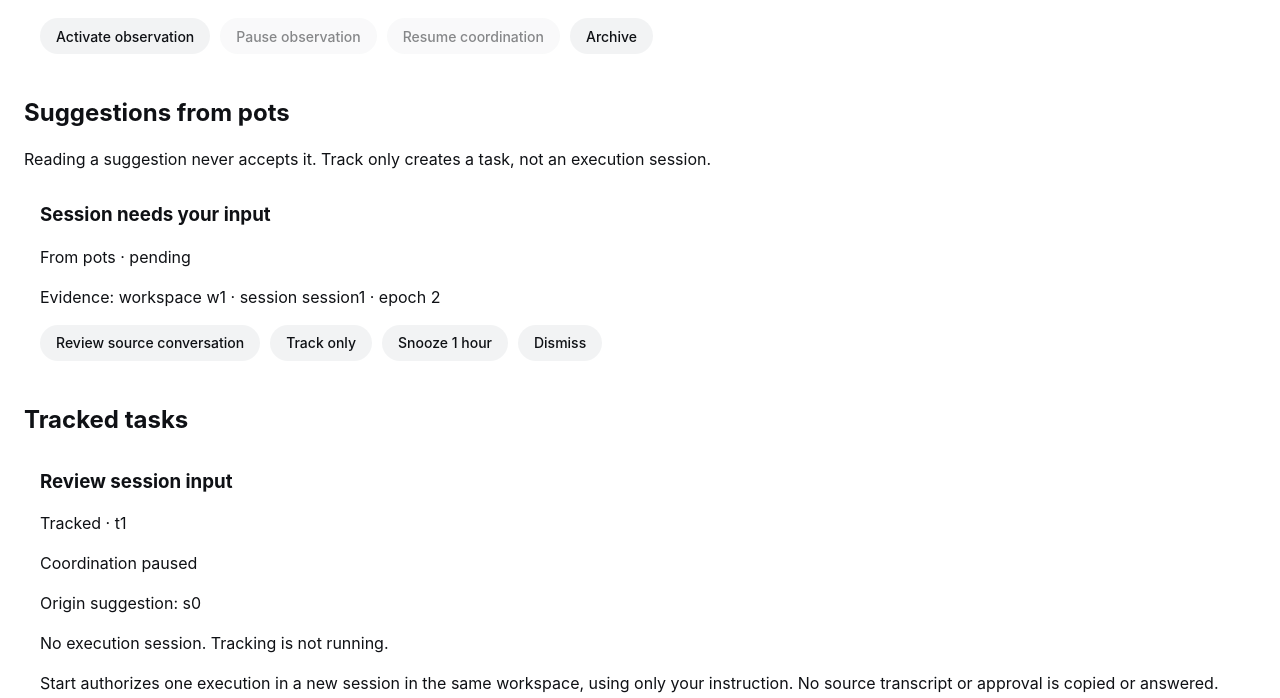
Test: pots tracking checkpoint › refreshes on a conflict but never automatically retries the stale operation
(page scrolled)
Step 1. Click the button "Track only" → (321, 343), box [270,325,372,361]
(page scrolled)
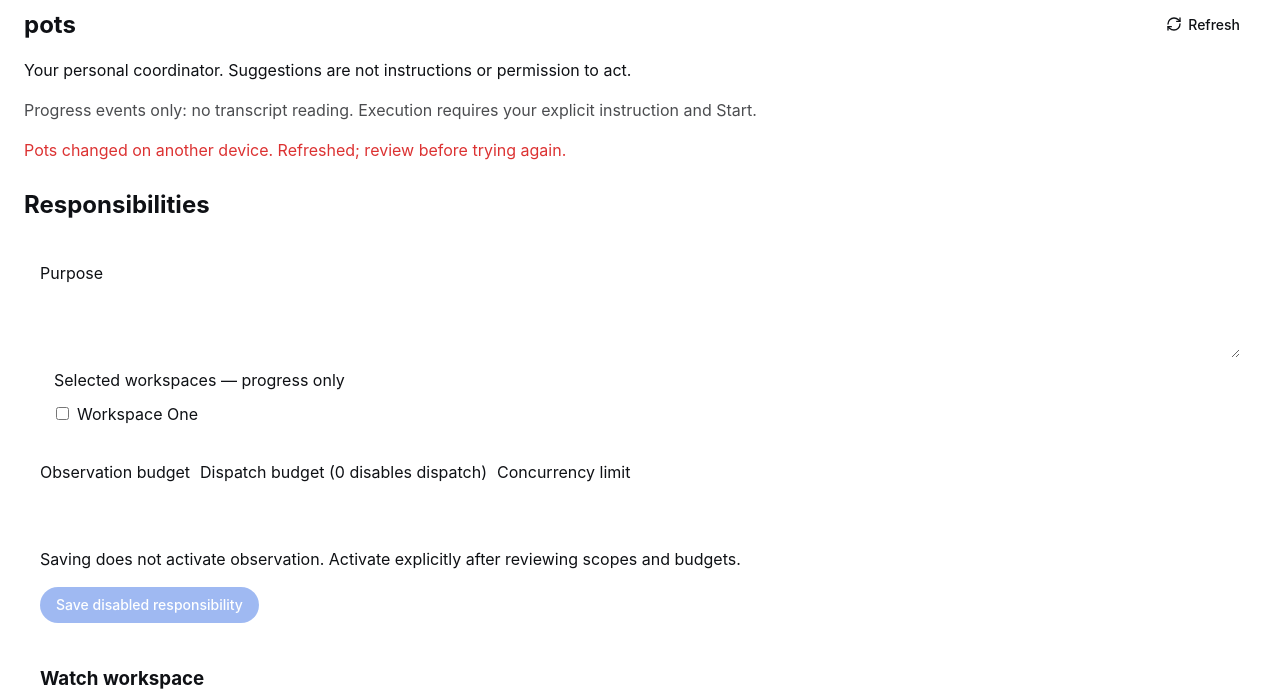
Result: the message "Pots changed on another device. Refreshed; review before trying again." is shown at [24,140,566,160]
